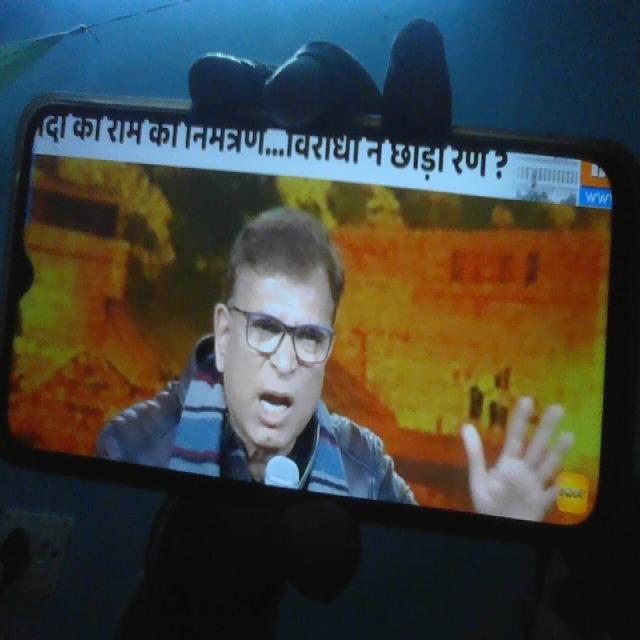fake: (205, 204, 345, 468)
